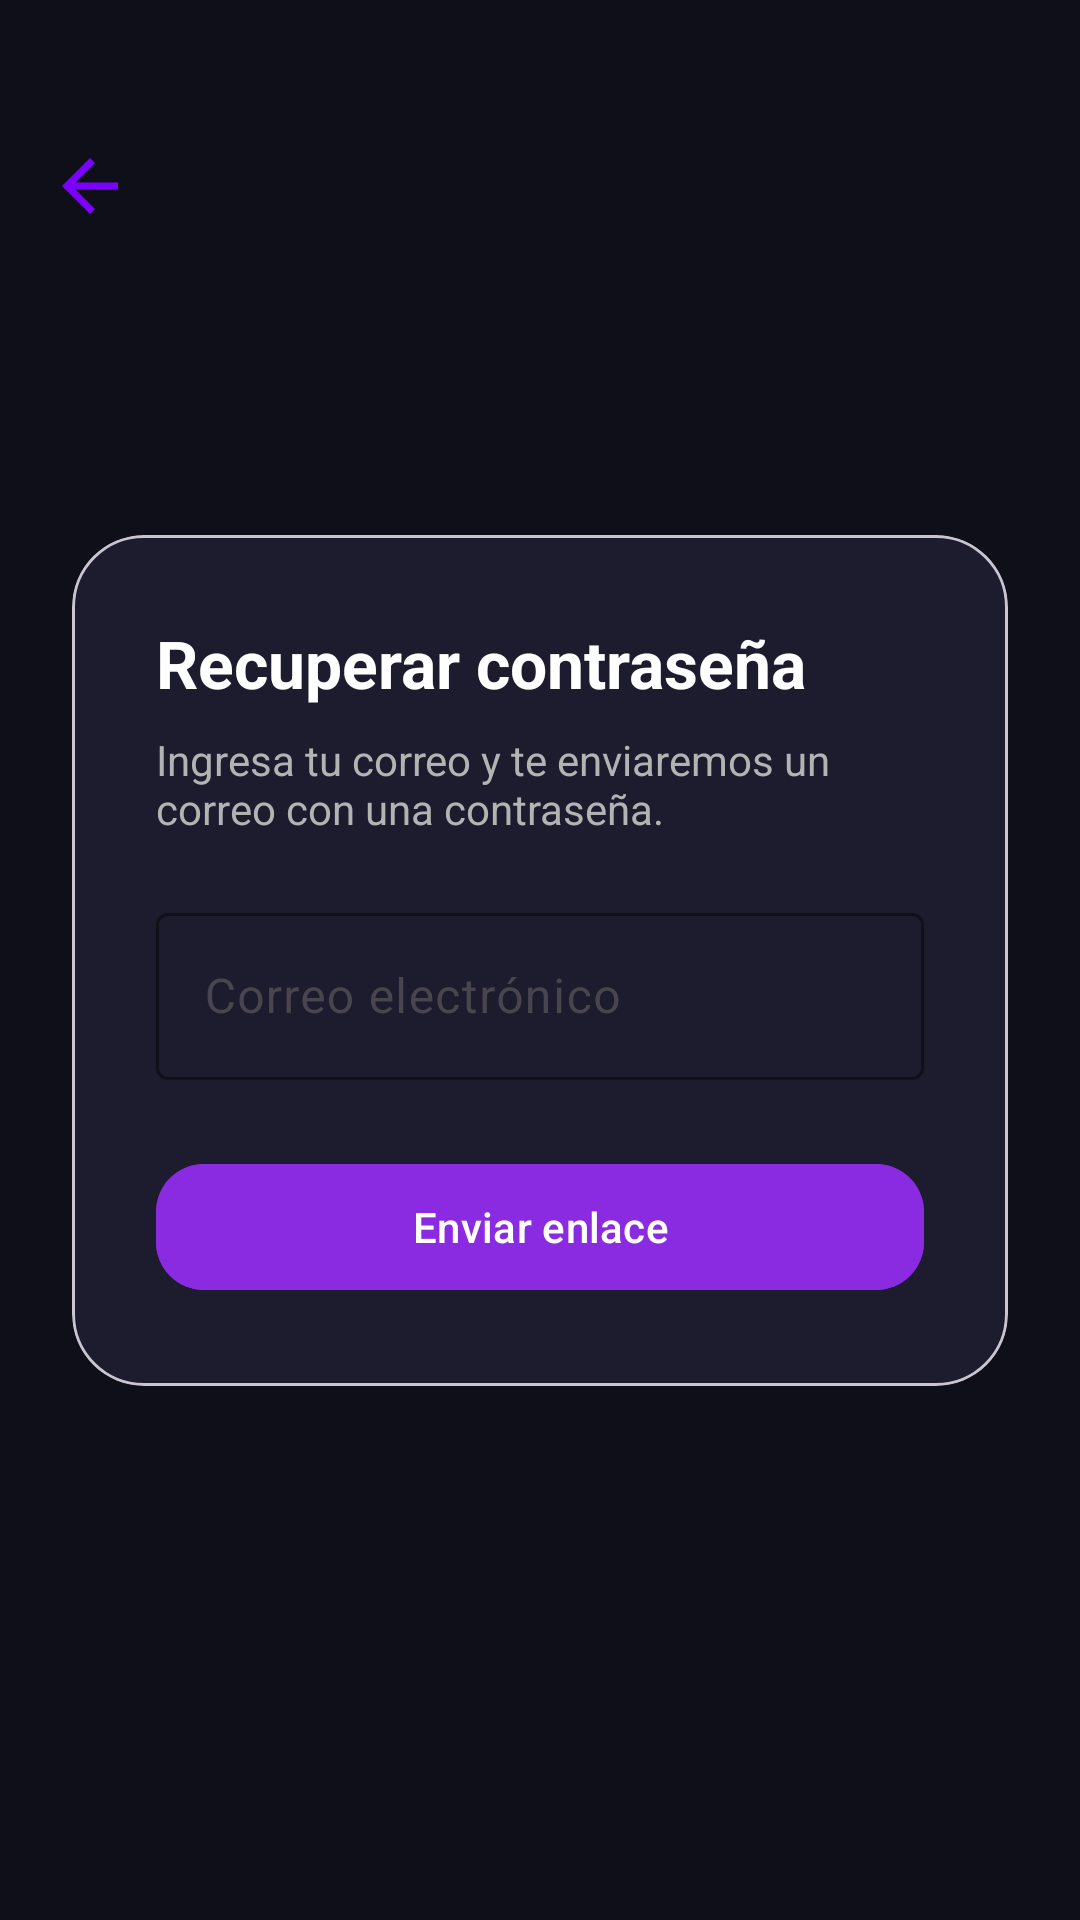

Named icons in this screenshot (1080 x 1920) and their bounding boxes, (x1, y1, x2, y2):
arrow back: (62, 158, 118, 214)
